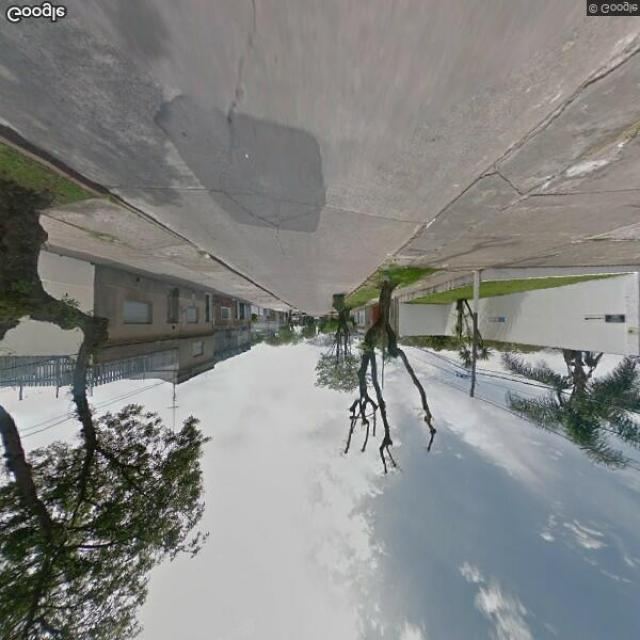garbage container: (329, 291, 352, 316)
